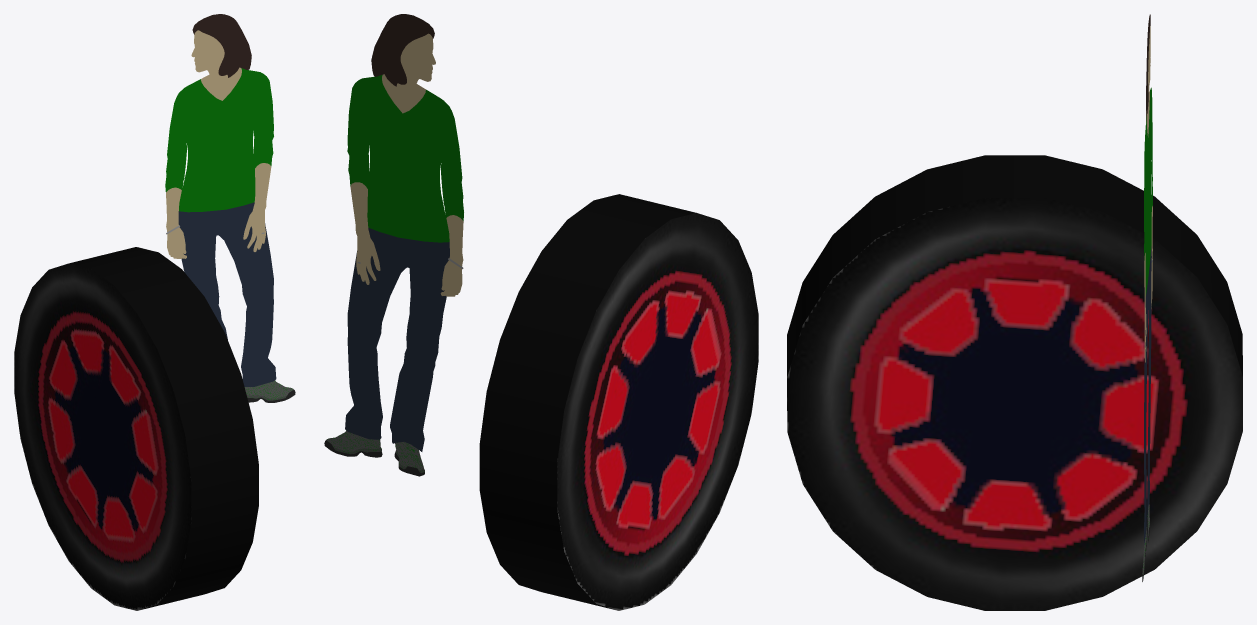
3 renders of one model, left to right at view 1: azimuth 30°, elevation 25°; view 2: azimuth 150°, elevation 25°; view 3: azimuth 270°, elevation 25°, orthographic. The views are drawn at different scales.
Visible parts, largest first — view 1: group_0 (×2), Susan (×8); view 2: group_0 (×2), Susan (×8); view 3: group_0 (×2), Susan (×2).
Part boxes in pixels (<box>): group_0 (×2): <box>14,247,258,610</box>; Susan (×8): <box>165,14,293,398</box>; group_0 (×2): <box>479,194,758,610</box>; Susan (×8): <box>326,14,463,451</box>; group_0 (×2): <box>787,155,1242,610</box>; Susan (×2): <box>1144,87,1152,544</box>.
Bounding box in the file's own units: 42.08 × 53.06 × 83.76.
